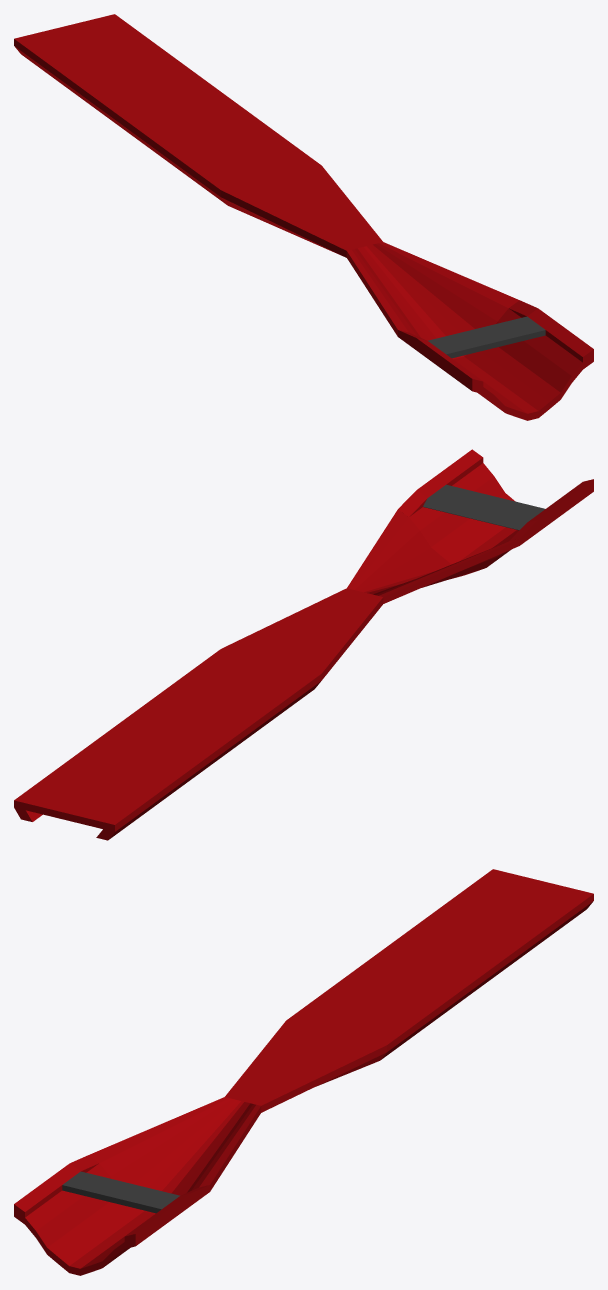
File: Blumenschneider.dae
3 views of the same model, one above another, from view 1: azimuth 30°, elevation 25°; view 2: azimuth 150°, elevation 25°; view 3: azimuth 330°, elevation 25° (orthographic).
Visible parts, largest first — view 1: Cube, Cube.001; view 2: Cube, Cube.001; view 3: Cube, Cube.001.
Boxes of the visible parts, x1=… form: Cube: x1=14, y1=14, x2=593, y2=420; Cube.001: x1=428, y1=316, x2=545, y2=358; Cube: x1=14, y1=449, x2=593, y2=840; Cube.001: x1=423, y1=484, x2=544, y2=530; Cube: x1=14, y1=869, x2=593, y2=1275; Cube.001: x1=62, y1=1171, x2=179, y2=1213.
Bounding box in the file's own units: 108 × 47.09 × 720.
